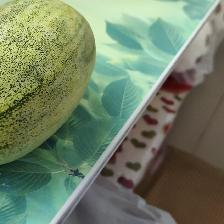gua: (10, 16, 82, 120)
